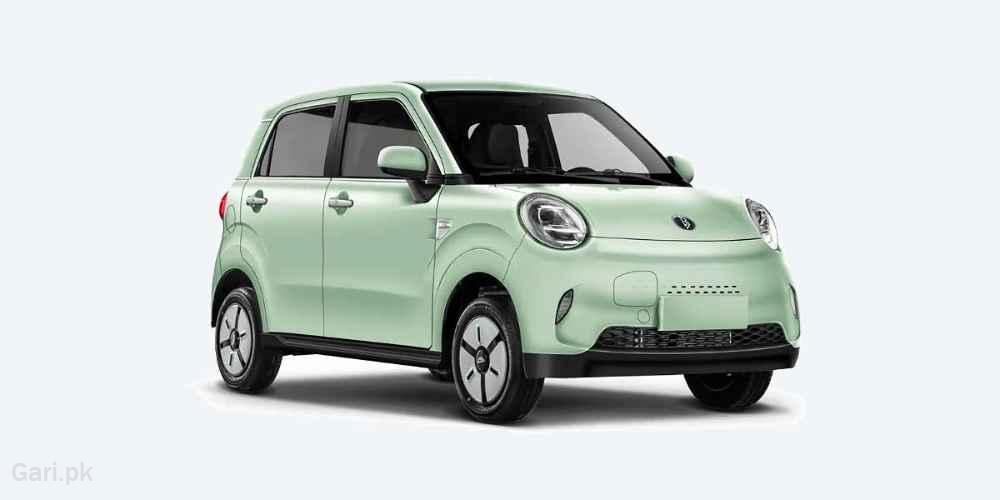Hatchback: (190, 50, 830, 433)
